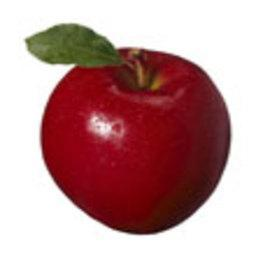apple: (39, 46, 232, 236)
